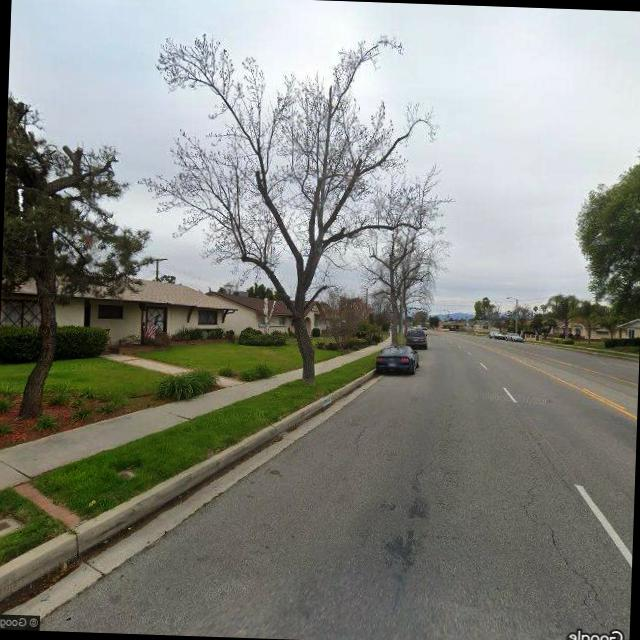pothole: (514, 486, 614, 627), (352, 421, 368, 456)
